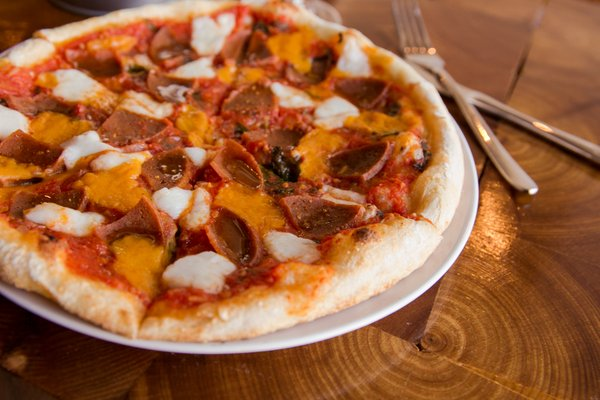burger: (391, 1, 543, 191)
